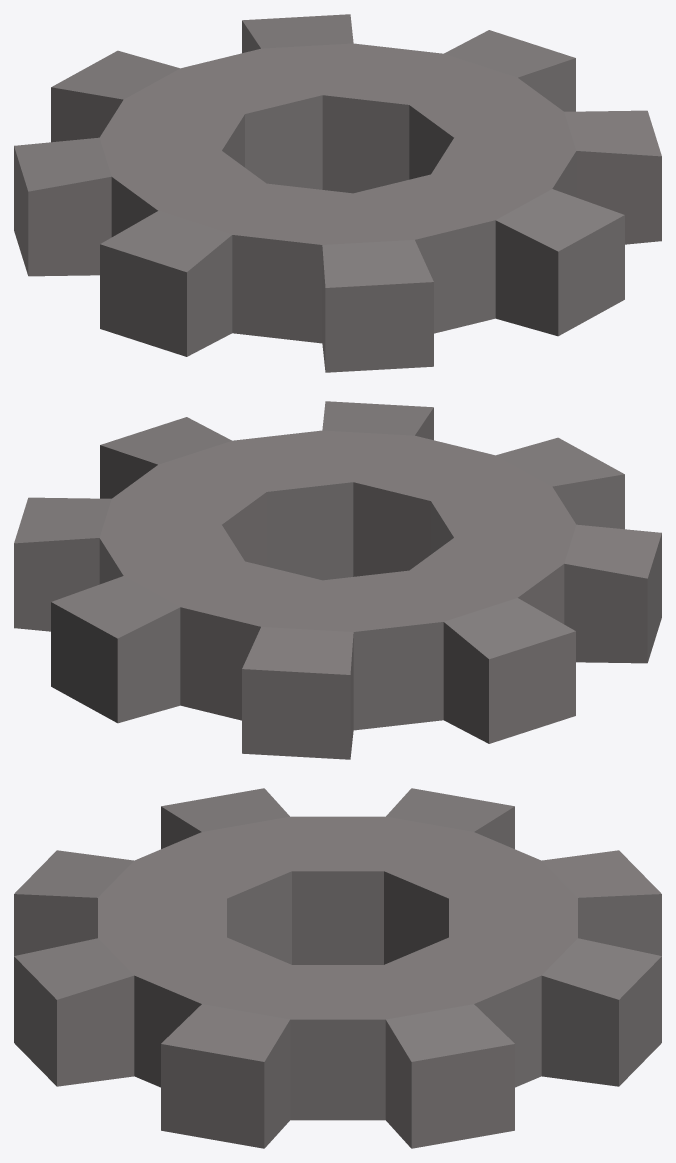
Rendered from gear-wheel.glb.
The picture shows the model from 3 angles, top to bottom: view 1: azimuth 30°, elevation 25°; view 2: azimuth 150°, elevation 25°; view 3: azimuth 270°, elevation 25°; orthographic projection. The views are drawn at different scales.
Parts seen in each view (by area): view 1: gear-wheel; view 2: gear-wheel; view 3: gear-wheel.
Part boxes in pixels (x1,y1,x2,y2): gear-wheel: [14, 14, 661, 372]; gear-wheel: [14, 401, 661, 759]; gear-wheel: [14, 788, 661, 1148].
Size of the model in its own units: 0.3878 by 0.0666 by 0.3878.
1 material, 1 textured.
